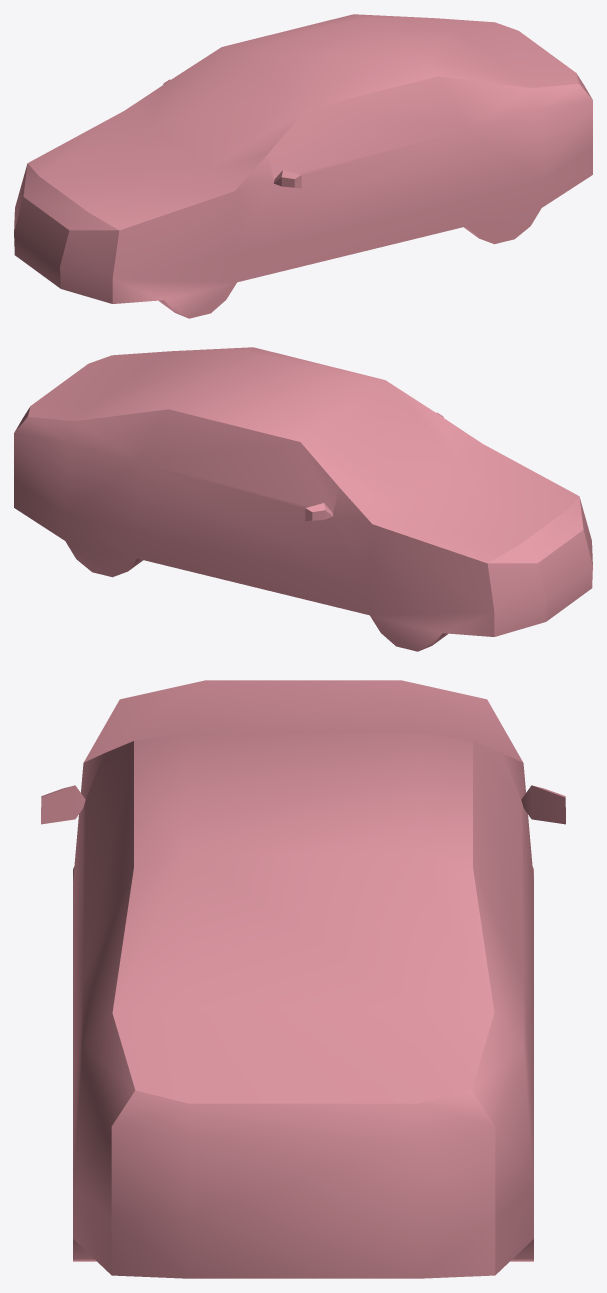
The model's file is car.obj.
3 views of the same model, one above another, from view 1: azimuth 30°, elevation 25°; view 2: azimuth 150°, elevation 25°; view 3: azimuth 270°, elevation 25° (orthographic). The views are drawn at different scales.
Parts seen in each view (by area): view 1: car; view 2: car; view 3: car.
Part boxes in pixels (left/top/right/bottom): car: left=14, top=14, right=592, bottom=318; car: left=14, top=347, right=592, bottom=651; car: left=41, top=680, right=565, bottom=1278.
Bounding box in the file's own units: 17.1 × 5.37 × 7.37.
